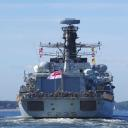Fragata: (16, 17, 119, 122)
